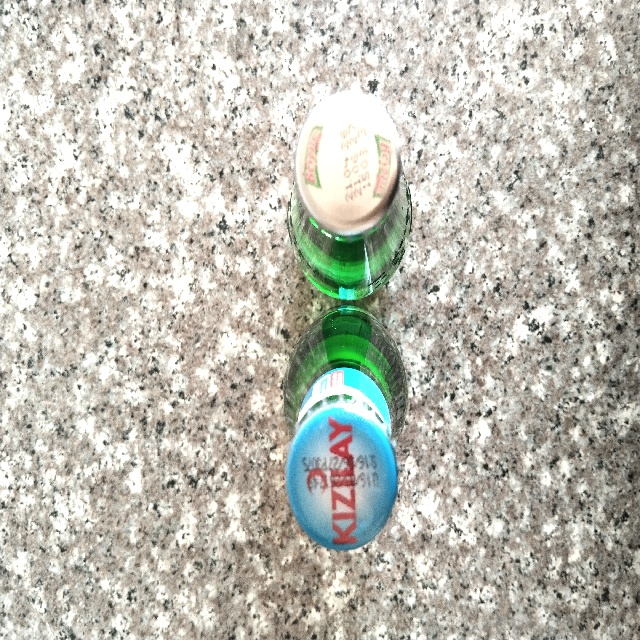beypazari_maden_suyu: (288, 91, 410, 299)
kizilay_maden_suyu: (285, 306, 406, 550)
